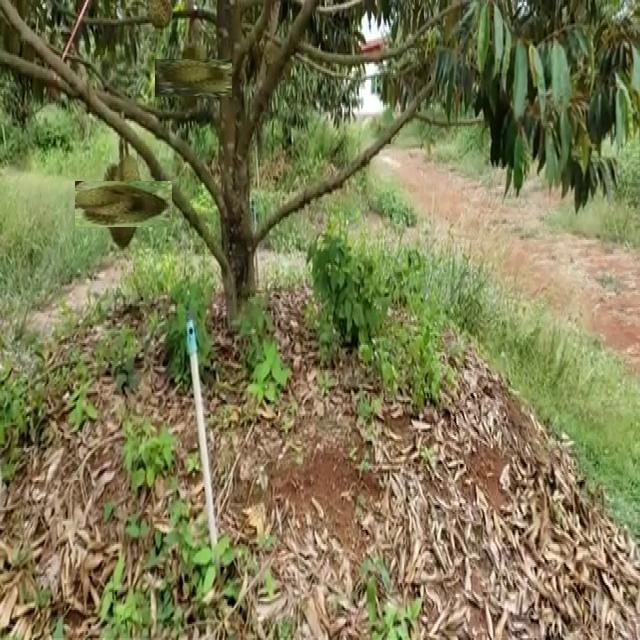durian: (88, 168, 160, 240), (164, 49, 223, 106)
